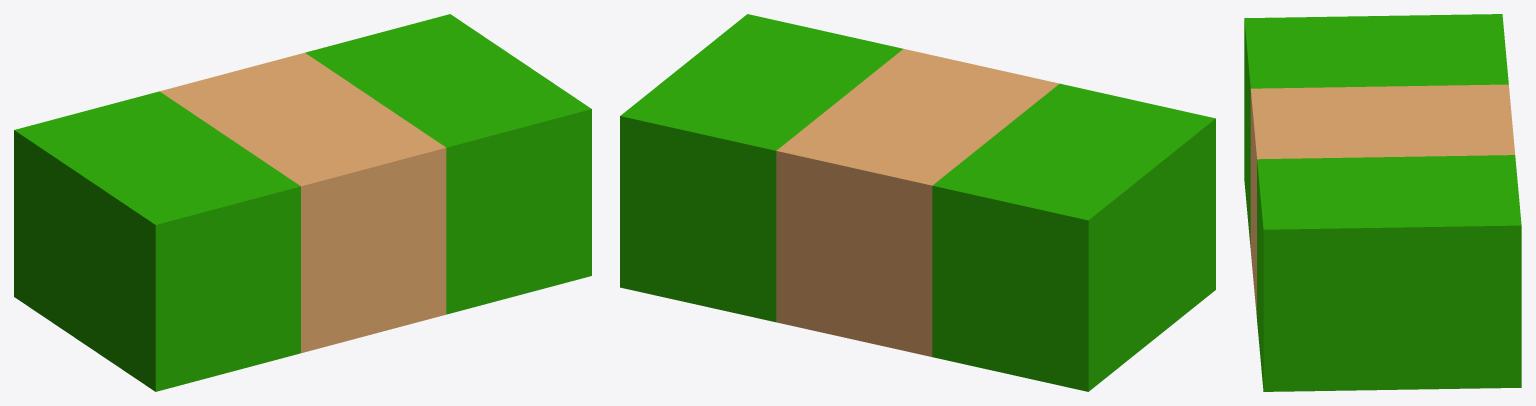
File: cash 1.fbx
3 renders of one model, left to right at view 1: azimuth 30°, elevation 25°; view 2: azimuth 150°, elevation 25°; view 3: azimuth 270°, elevation 25°, orthographic. The views are drawn at different scales.
Visible parts, largest first — view 1: Cube.001; view 2: Cube.001; view 3: Cube.001.
Part boxes in pixels (left/top/right/bottom): Cube.001: left=14, top=14, right=591, bottom=391; Cube.001: left=620, top=14, right=1215, bottom=391; Cube.001: left=1244, top=14, right=1521, bottom=391.
Bounding box in the file's own units: 8.15 × 2.86 × 4.43.
